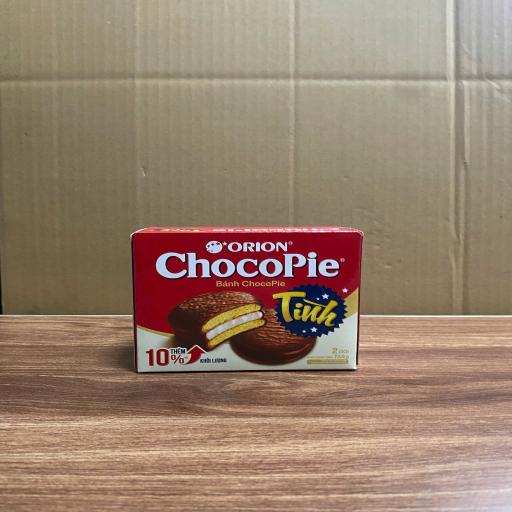chocopie: (132, 232, 363, 371)
